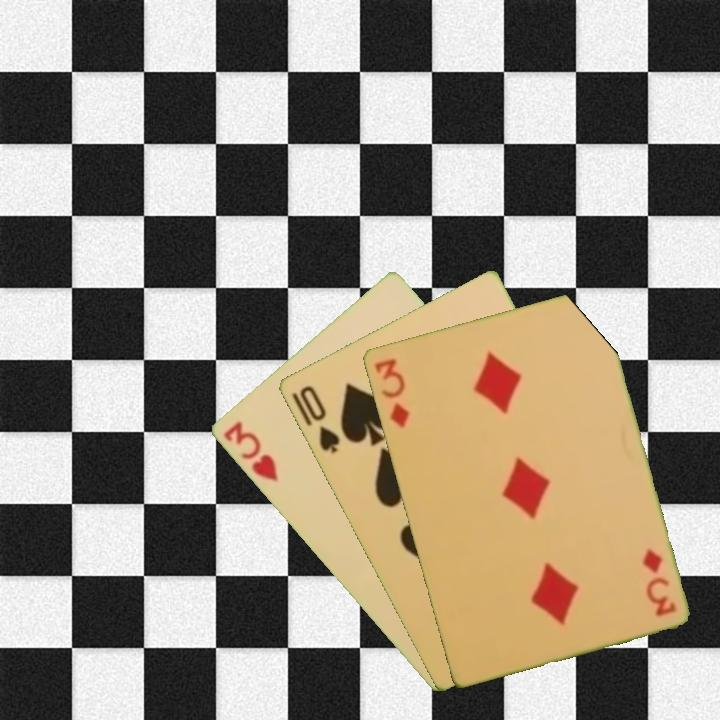10s: (295, 382, 343, 457)
3d: (370, 355, 412, 430), (638, 545, 678, 619)
3h: (219, 418, 281, 485)
